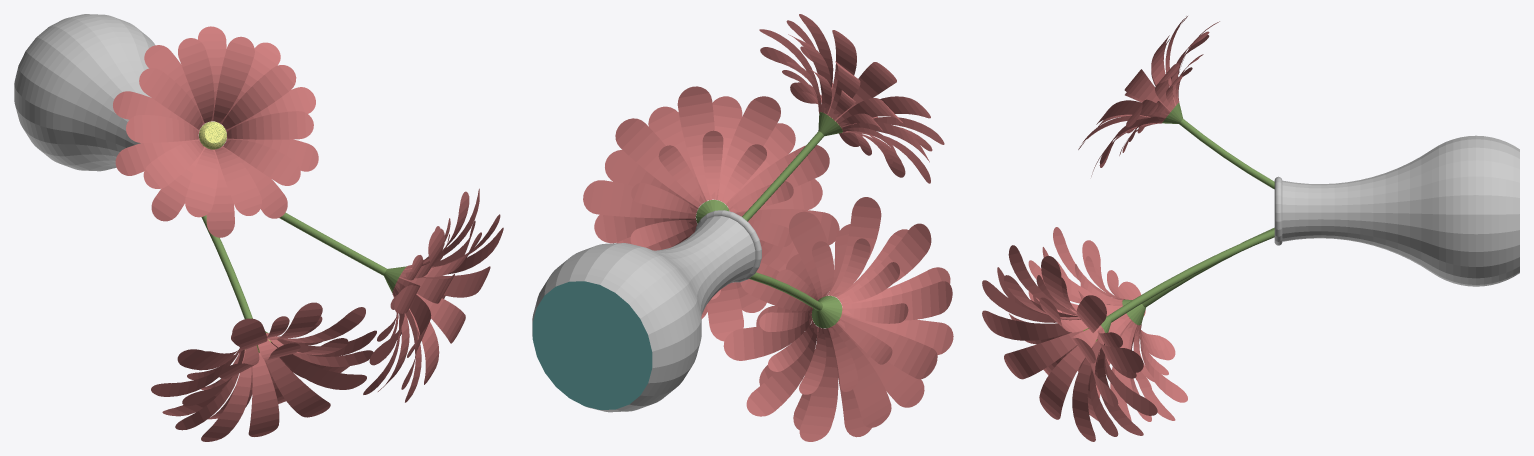
3 views of the same model, side by side, from view 1: azimuth 30°, elevation 25°; view 2: azimuth 150°, elevation 25°; view 3: azimuth 270°, elevation 25° (orthographic). The views are drawn at different scales.
Parts seen in each view (by area): view 1: flowers; view 2: flowers; view 3: flowers.
Part boxes in pixels (x1,y1,x2,y2): flowers: [14, 14, 503, 441]; flowers: [532, 14, 953, 441]; flowers: [982, 16, 1519, 441].
Size of the model in its own units: 6.2 by 6.86 by 8.77.
